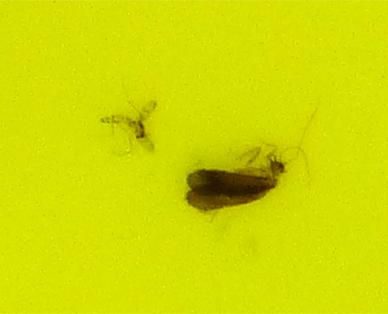Nematocera: (100, 100, 157, 151)
Trichoptera: (182, 147, 288, 214)
